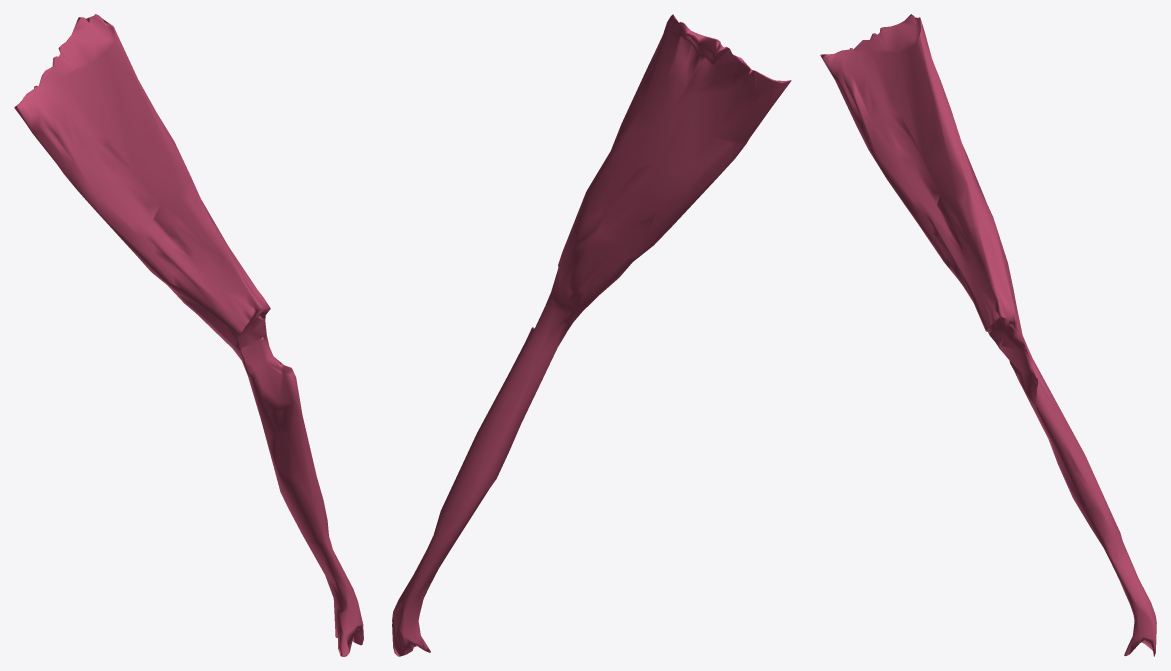
The picture shows the model from 3 angles, left to right: view 1: azimuth 30°, elevation 25°; view 2: azimuth 150°, elevation 25°; view 3: azimuth 330°, elevation 25°; orthographic projection. The views are drawn at different scales.
Visible parts, largest first — view 1: 左侧小趾展肌; view 2: 左侧小趾展肌; view 3: 左侧小趾展肌.
Part boxes in pixels (<box>): 左侧小趾展肌: <box>14,14,363,656</box>; 左侧小趾展肌: <box>392,14,791,656</box>; 左侧小趾展肌: <box>820,14,1156,656</box>.
Bounding box in the file's own units: 0.1045 × 0.1878 × 0.0243.
